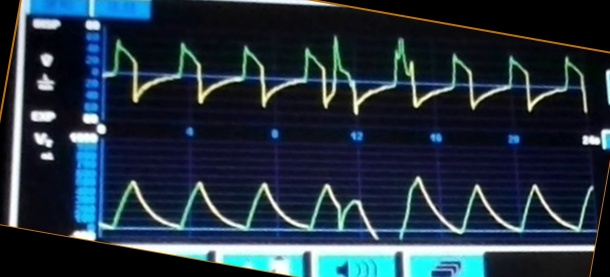Double_Triggering Flow: (111, 34, 570, 118)
Double_Triggering Volume: (106, 174, 577, 242)
